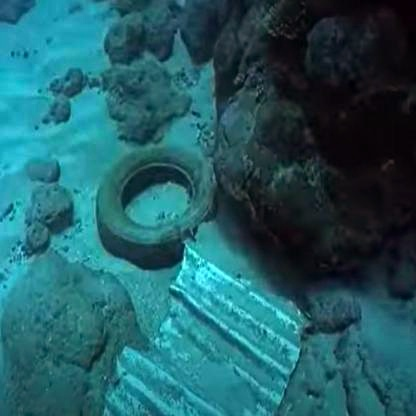metal: (124, 255, 311, 416)
tire: (98, 130, 223, 248)
